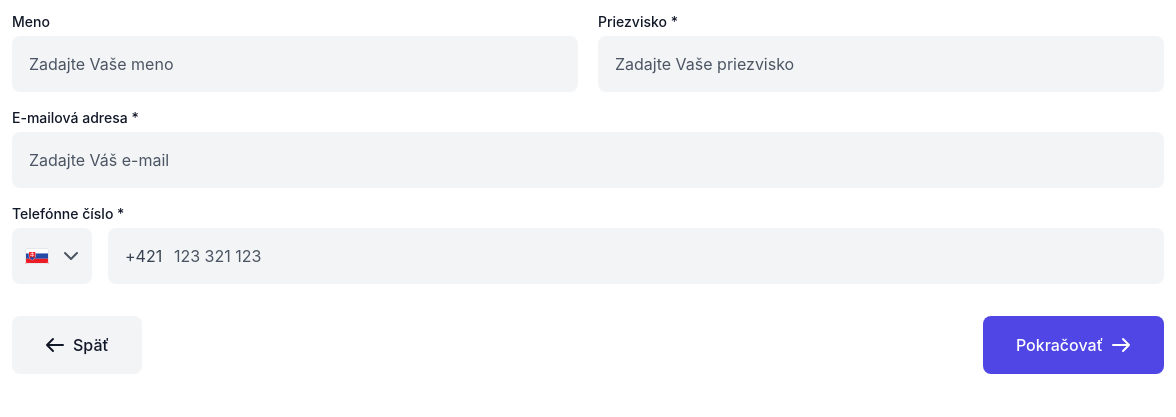
Scenario: DetailsForm › validates on blur and removes an old phone error while correcting it
Type "123" into the field labelled "Telefónne číslo" at [664, 256], box [166,244,1163,268]
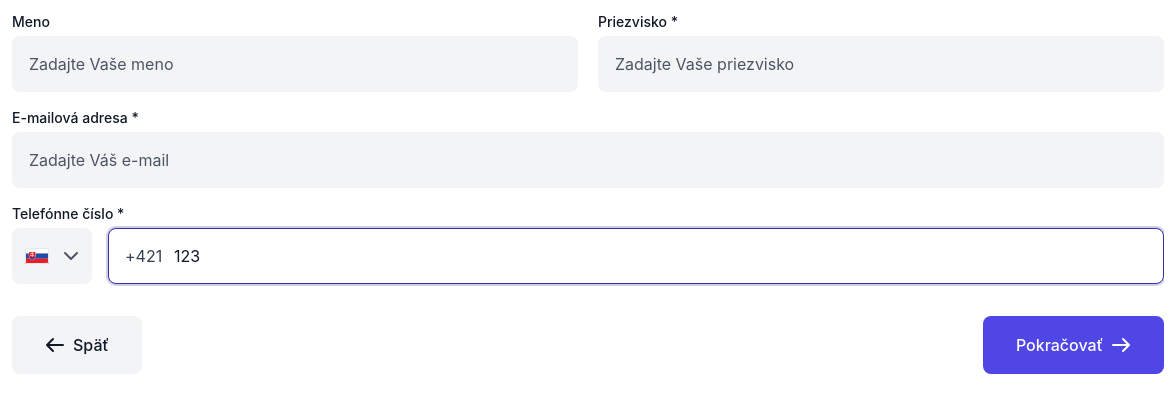
Press Tab
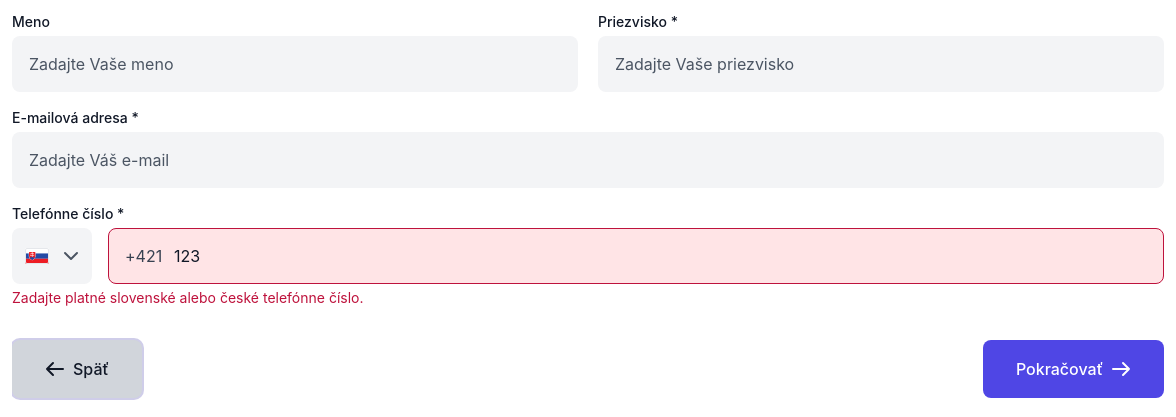
expect the field labelled "Telefónne číslo" is marked as invalid: met
Replace the text in the field labelled "Telefónne číslo" with "901234567" at [664, 256], box [166,244,1163,268]
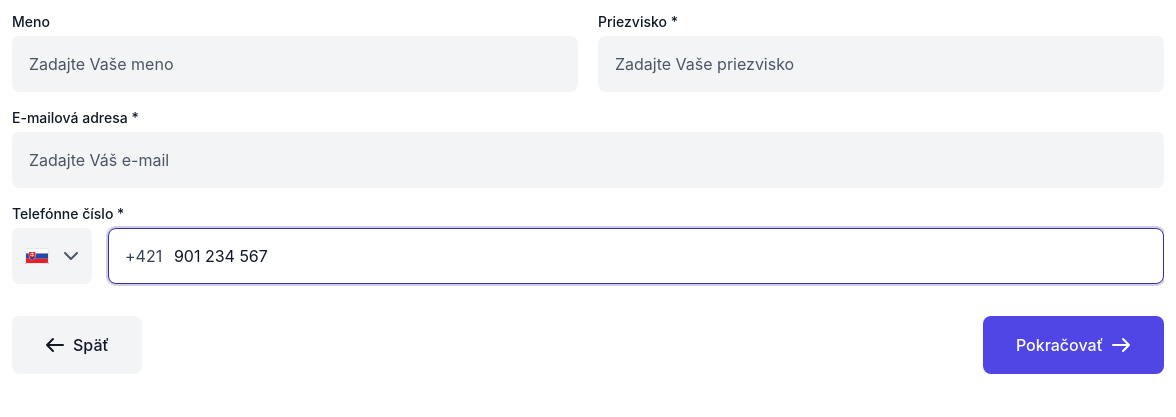
expect the field labelled "Telefónne číslo" holds "901 234 567": met, box [166,244,1163,268]
